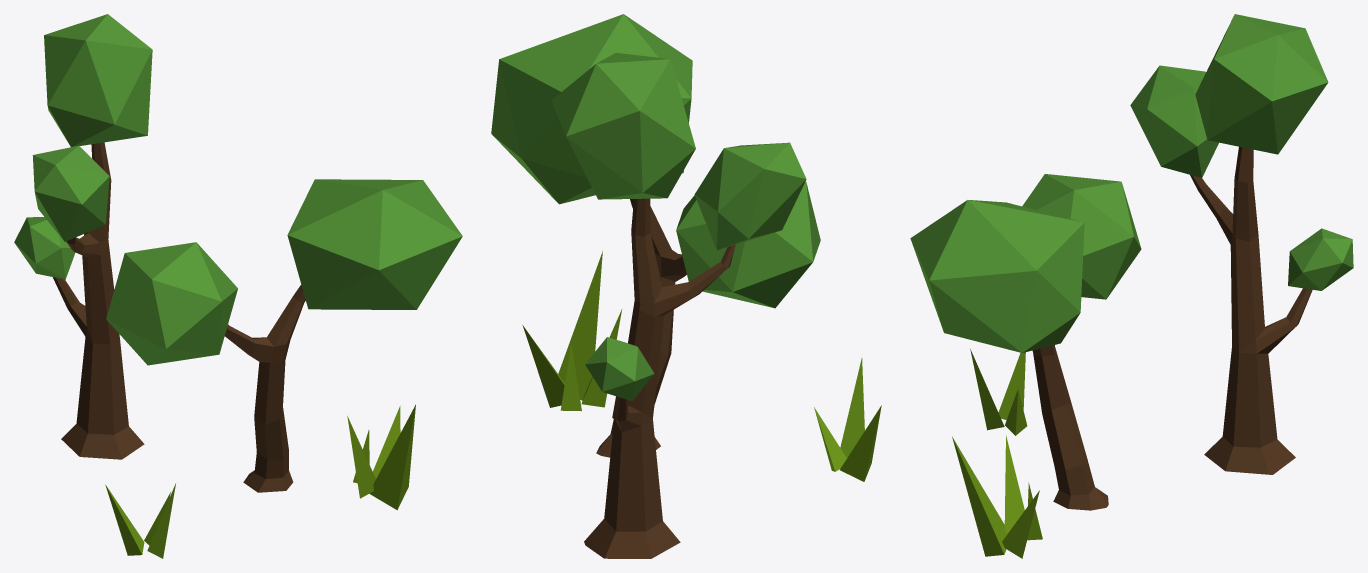
The model's file is Human-TreeRes1.fbx.
3 views of the same model, side by side, from view 1: azimuth 30°, elevation 25°; view 2: azimuth 150°, elevation 25°; view 3: azimuth 270°, elevation 25° (orthographic). The views are drawn at different scales.
Visible parts, largest first — view 1: Human-Tree-Res-1; view 2: Human-Tree-Res-1; view 3: Human-Tree-Res-1.
Boxes of the visible parts, x1,y1,x2,y2 form: Human-Tree-Res-1: [14, 14, 462, 558]; Human-Tree-Res-1: [491, 14, 881, 558]; Human-Tree-Res-1: [910, 14, 1353, 558].
Size of the model in its own units: 1 by 1.09 by 1.21.
Materials: 4 (1 with a texture image).
